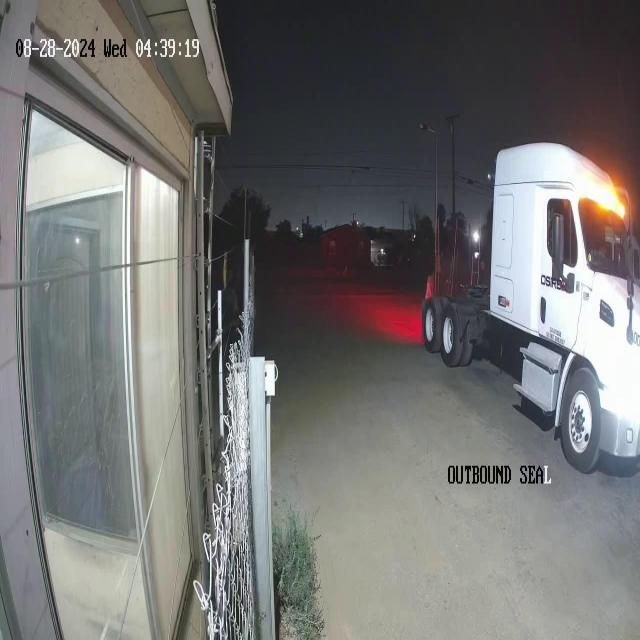TRUCK_IN: (421, 140, 639, 476)
